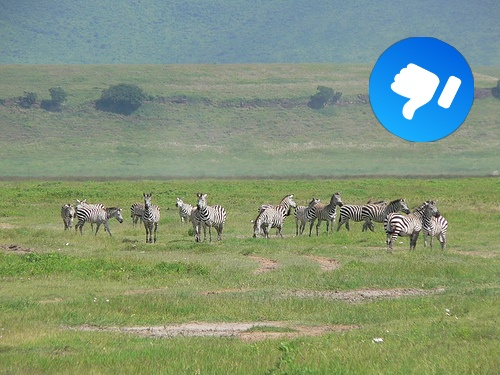like: (369, 37, 474, 142)
